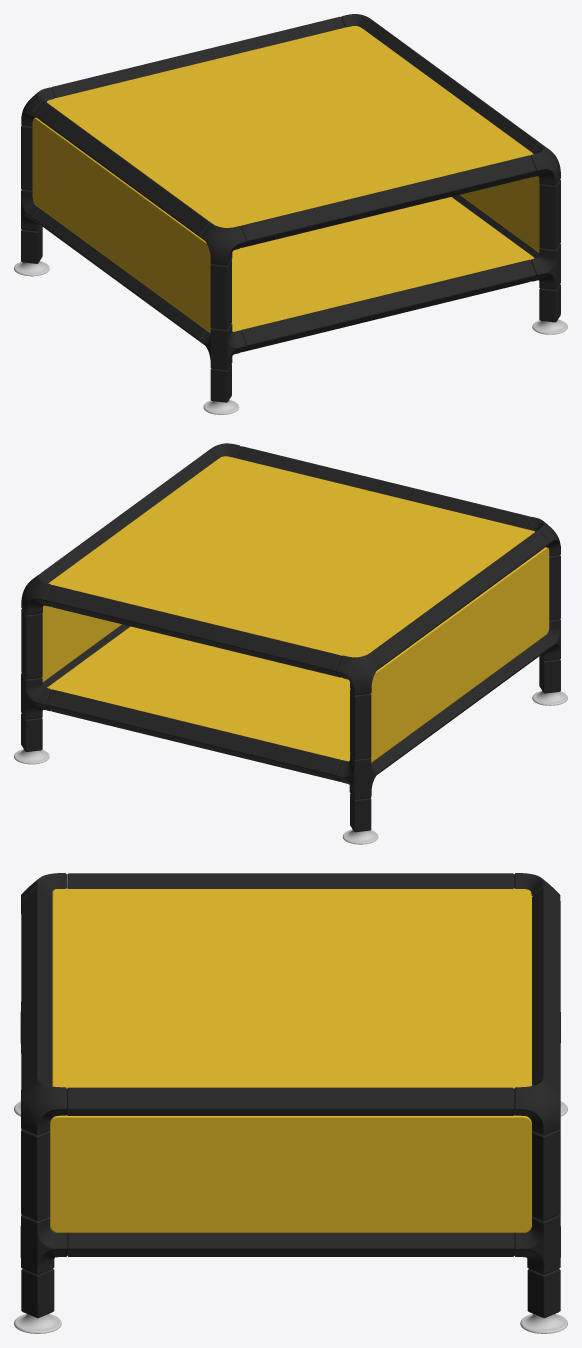
3 views of the same model, one above another, from view 1: azimuth 30°, elevation 25°; view 2: azimuth 150°, elevation 25°; view 3: azimuth 270°, elevation 25° (orthographic). The views are drawn at different scales.
Parts seen in each view (by area): view 1: 374x374x79; view 2: 374x374x79; view 3: 374x374x79.
Part boxes in pixels (x1,y1,x2,y2): 374x374x79: (14,14,567,414); 374x374x79: (14,443,567,844); 374x374x79: (14,873,567,1333).
Bounding box in the file's own units: 0.4639 × 0.2183 × 0.4632.
